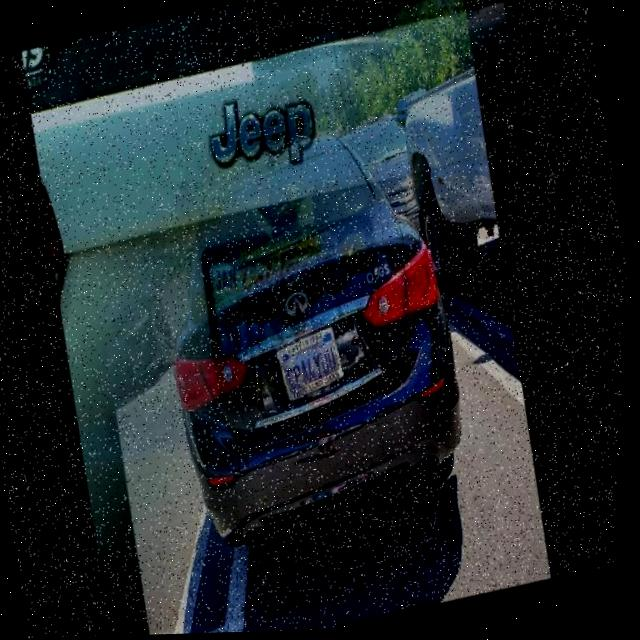LicensePlate: (275, 328, 358, 405)
